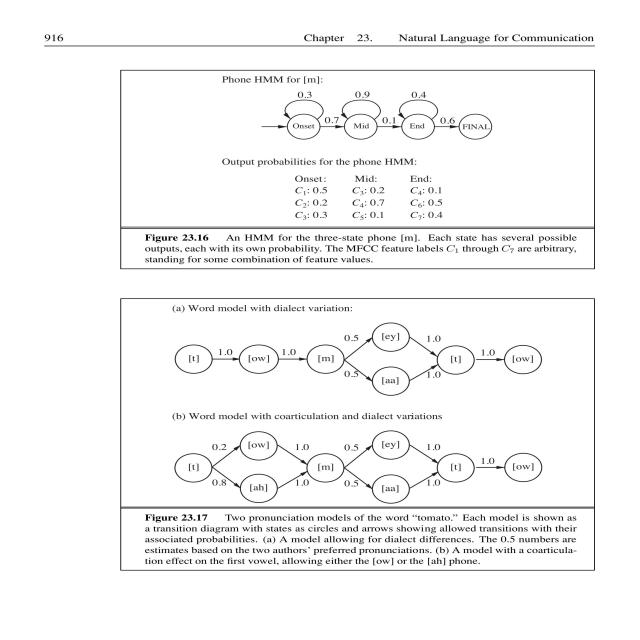diagram: (118, 299, 592, 572), (117, 70, 605, 270)
